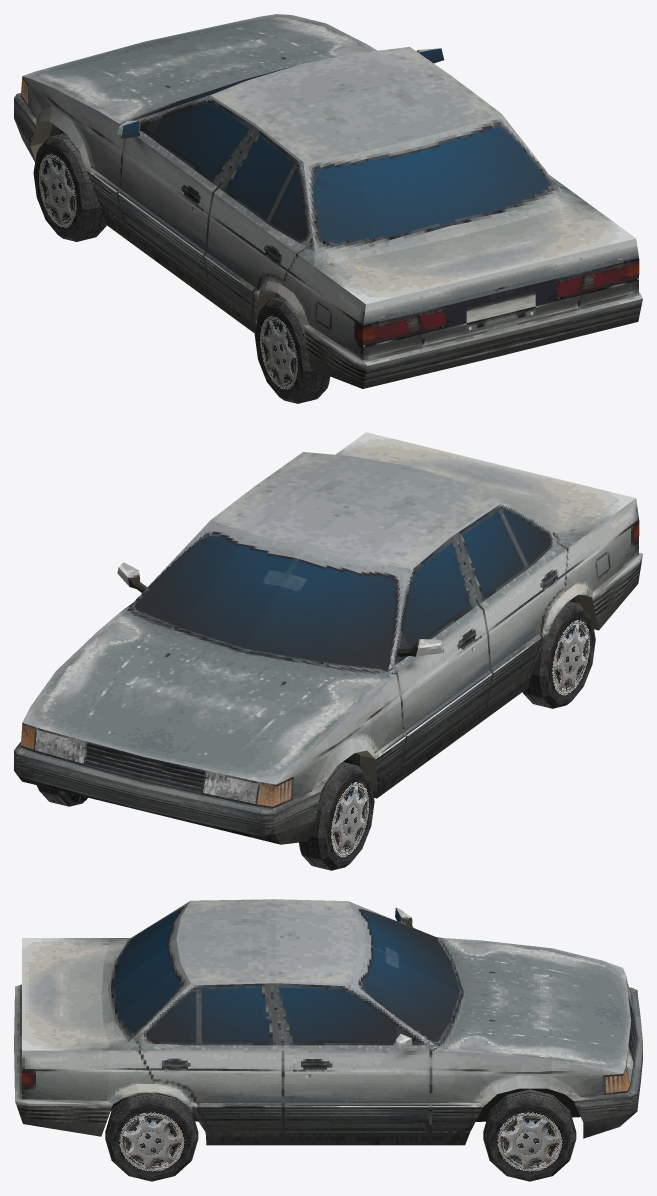
Rendered from ps1_nissan_v16.glb.
The picture shows the model from 3 angles, top to bottom: view 1: azimuth 30°, elevation 25°; view 2: azimuth 150°, elevation 25°; view 3: azimuth 270°, elevation 25°; orthographic projection. The views are drawn at different scales.
Visible parts, largest first — view 1: NissanV16, nissanv16_wheel_mesh, nissanv16_wheel_mesh.001; view 2: NissanV16, nissanv16_wheel_mesh, nissanv16_wheel_mesh.001; view 3: NissanV16, nissanv16_wheel_mesh.003, nissanv16_wheel_mesh.002.
Boxes of the visible parts, bbox=[...] form: NissanV16: bbox=[14, 14, 642, 388]; nissanv16_wheel_mesh: bbox=[33, 133, 106, 241]; nissanv16_wheel_mesh.001: bbox=[254, 296, 330, 403]; NissanV16: bbox=[14, 432, 642, 844]; nissanv16_wheel_mesh: bbox=[299, 762, 374, 870]; nissanv16_wheel_mesh.001: bbox=[522, 601, 595, 708]; NissanV16: bbox=[14, 899, 642, 1145]; nissanv16_wheel_mesh.003: bbox=[483, 1089, 576, 1181]; nissanv16_wheel_mesh.002: bbox=[105, 1092, 198, 1181].
Bounding box in the file's own units: 315 × 203 × 617.
2 materials, 2 textured.
